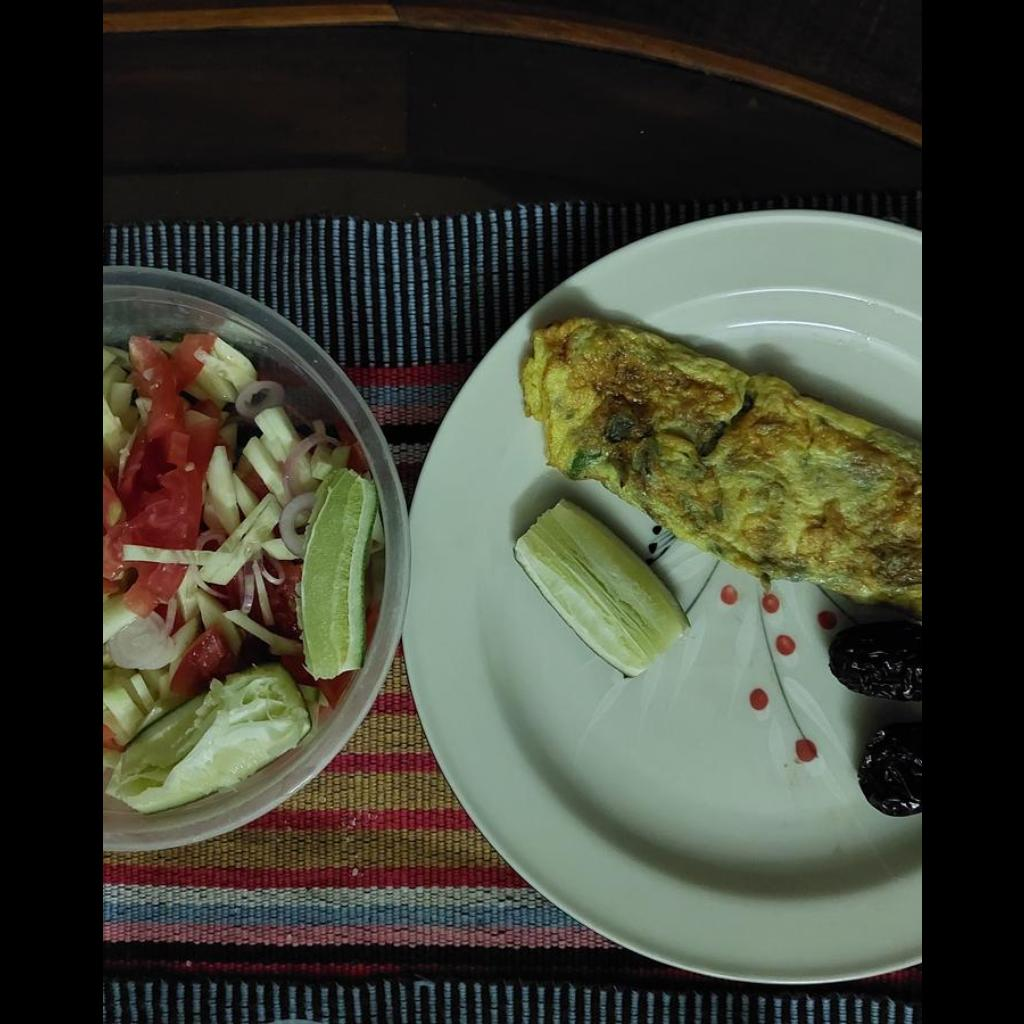dates: (832, 615, 919, 821)
egg-poached: (522, 324, 920, 597)
lemon: (515, 501, 687, 676)
salad: (102, 335, 366, 807)
